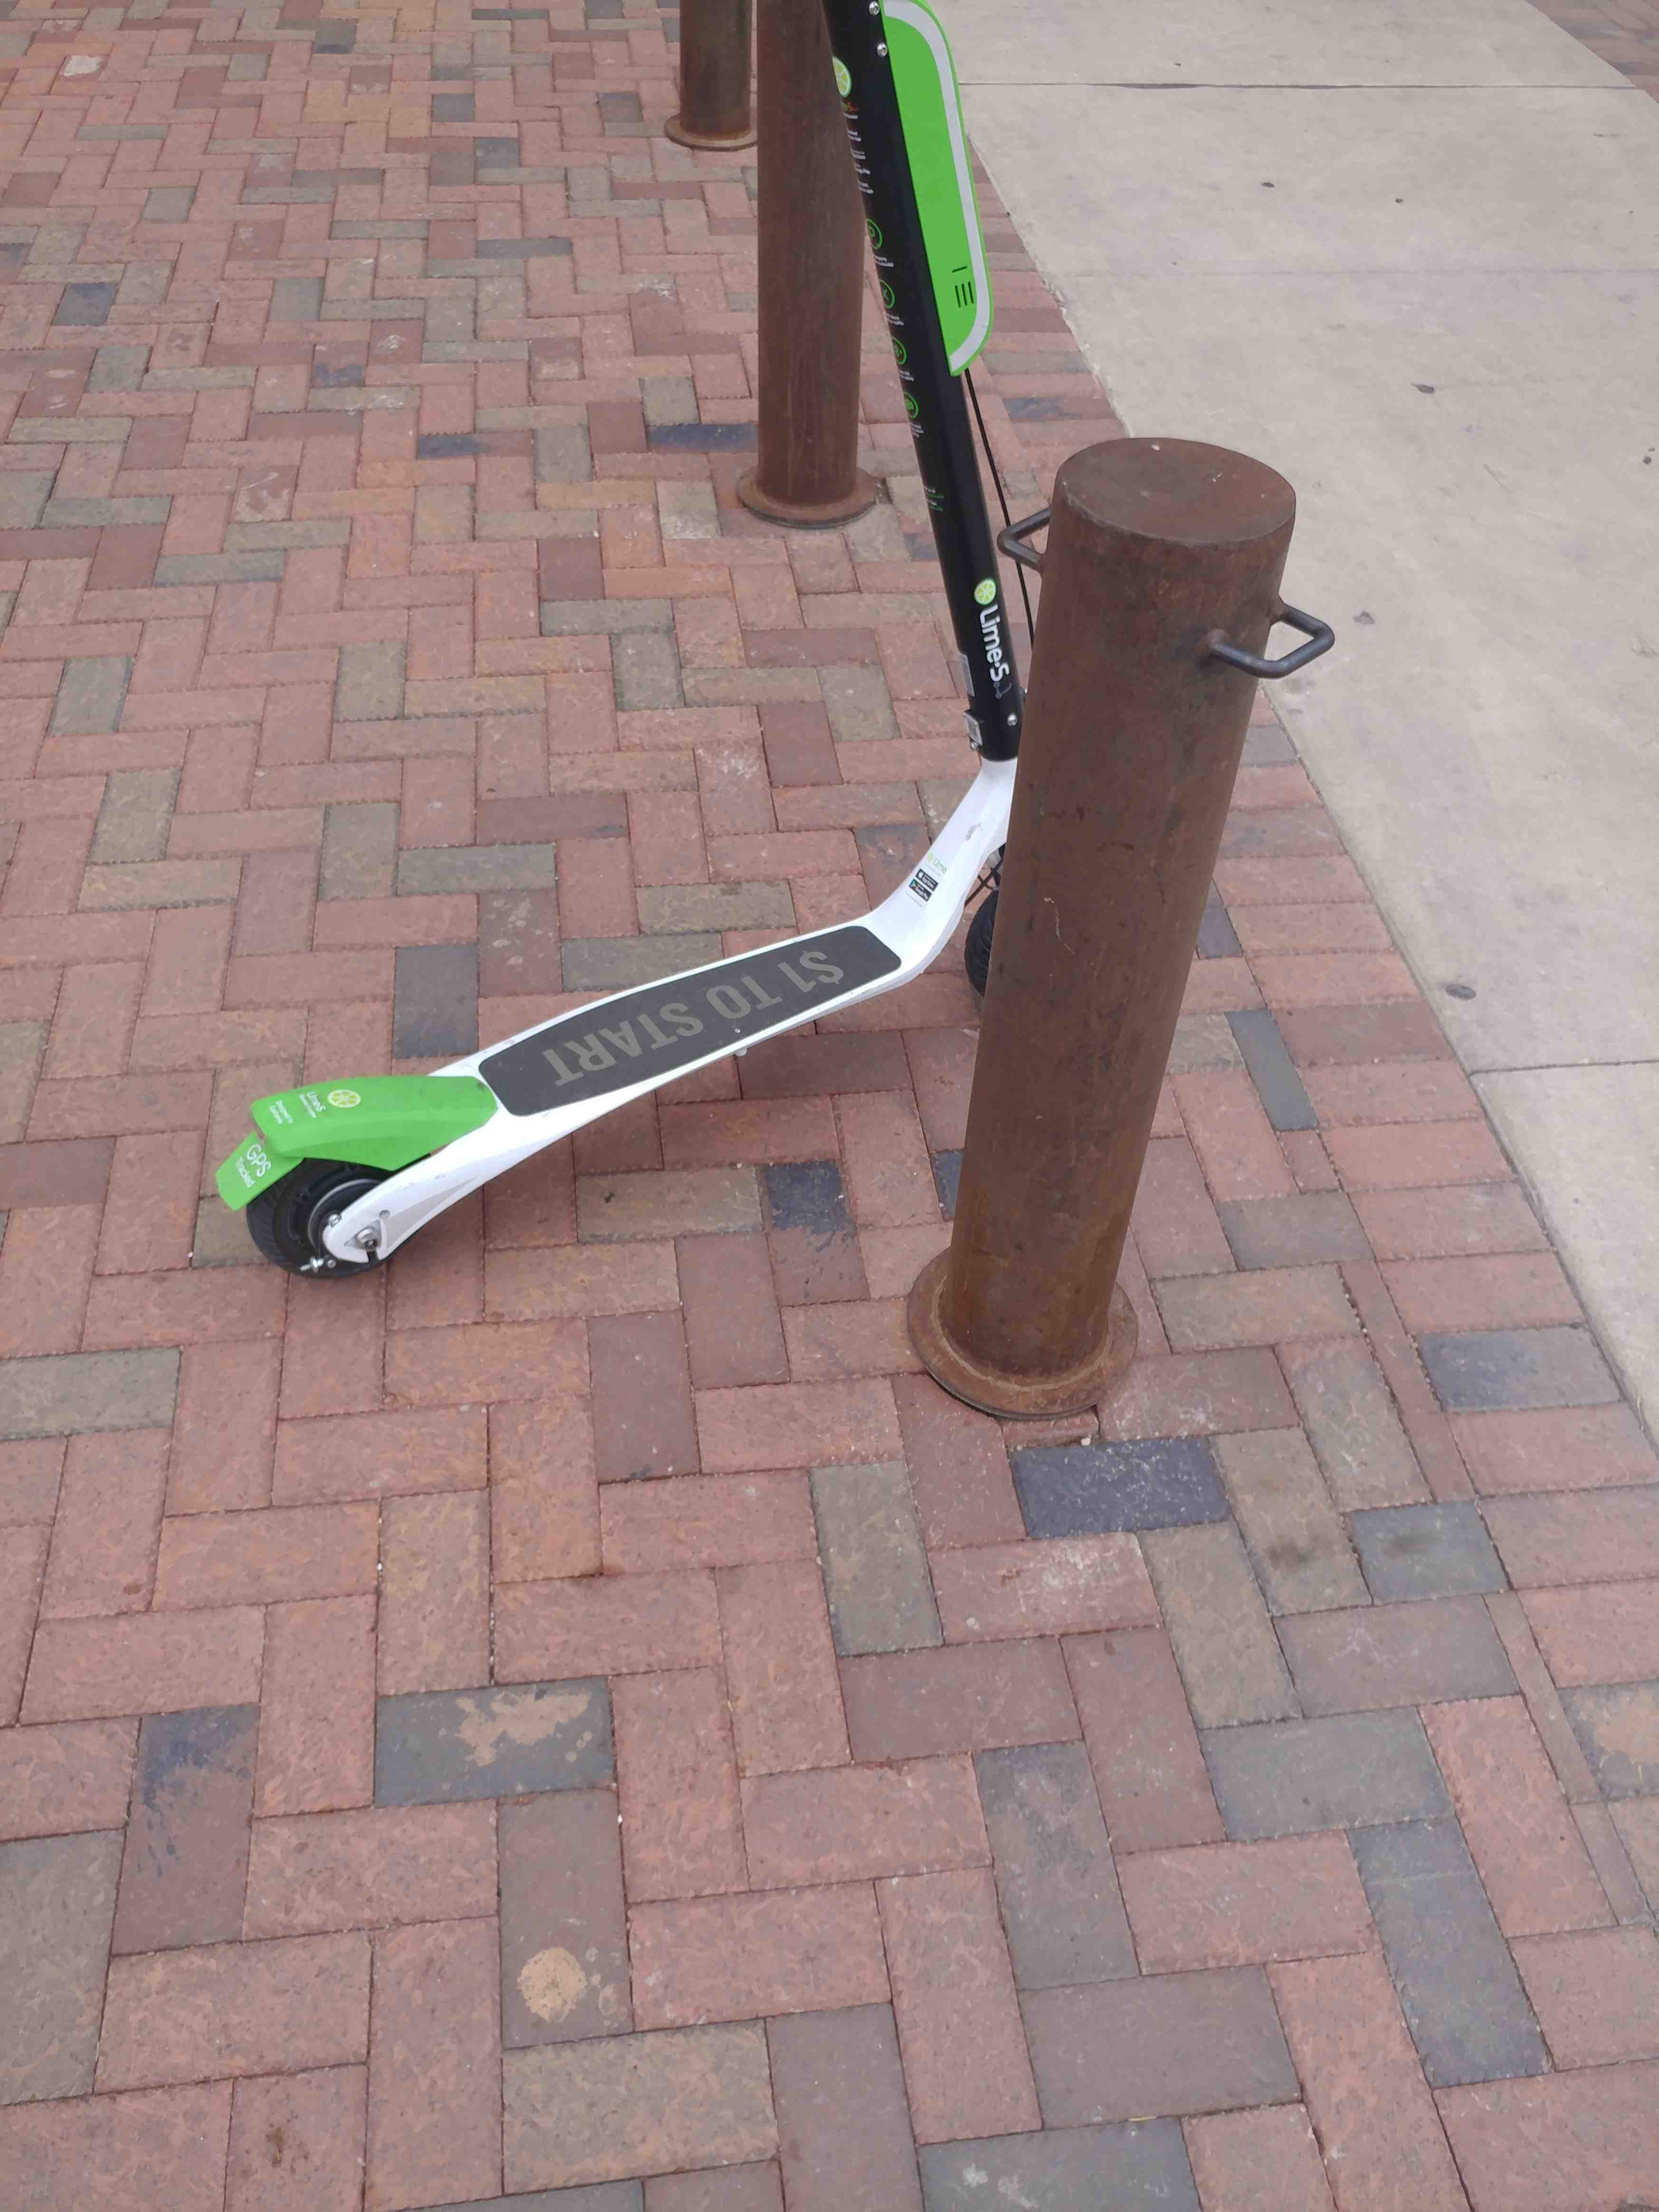scooter: (199, 0, 1169, 1345)
